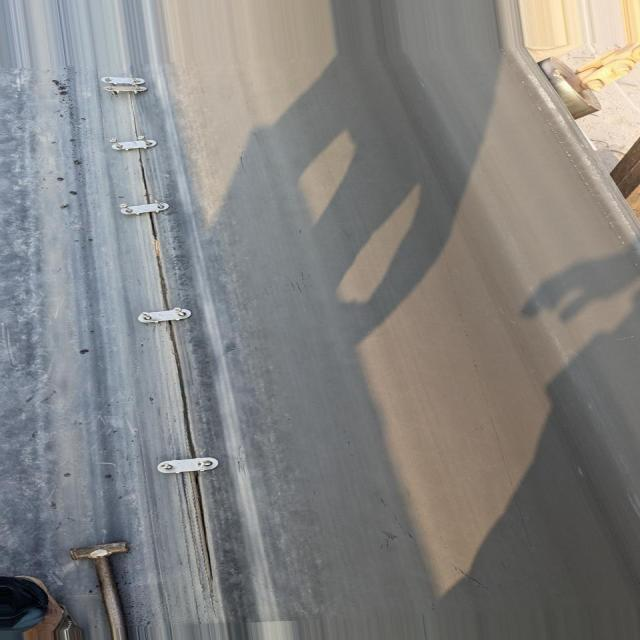Other Objects: (62, 539, 133, 640), (4, 569, 63, 640)
patch work: (86, 69, 234, 586)
